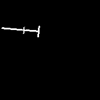double_crochet: (2, 26, 39, 36)
